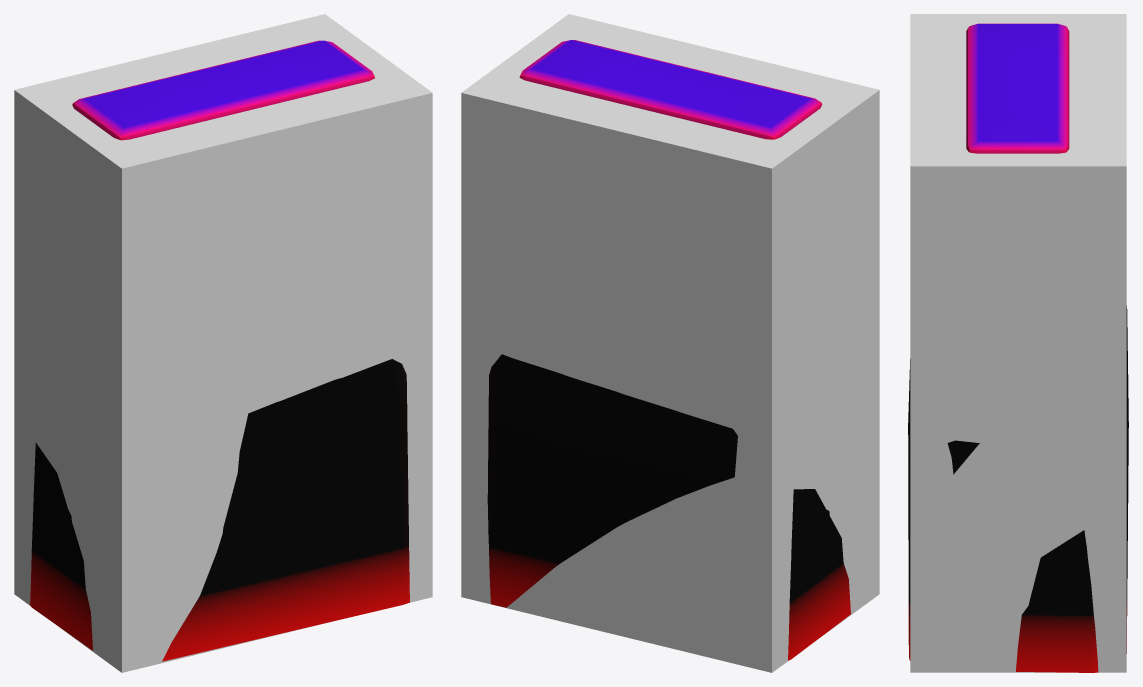
Rendered from prop_paper_bag.fbx.
3 renders of one model, left to right at view 1: azimuth 30°, elevation 25°; view 2: azimuth 150°, elevation 25°; view 3: azimuth 270°, elevation 25°, orthographic.
Visible parts, largest first — view 1: COL_0, prop_paper_bag; view 2: COL_0, prop_paper_bag; view 3: COL_0, prop_paper_bag.
Part boxes in pixels (x1,y1,x2,y2): COL_0: (14, 14, 432, 672); prop_paper_bag: (30, 40, 409, 661); COL_0: (461, 14, 879, 672); prop_paper_bag: (487, 40, 850, 660); COL_0: (910, 14, 1126, 672); prop_paper_bag: (908, 23, 1128, 672).
Bounding box in the file's own units: 0.2009 × 0.3145 × 0.1225.
